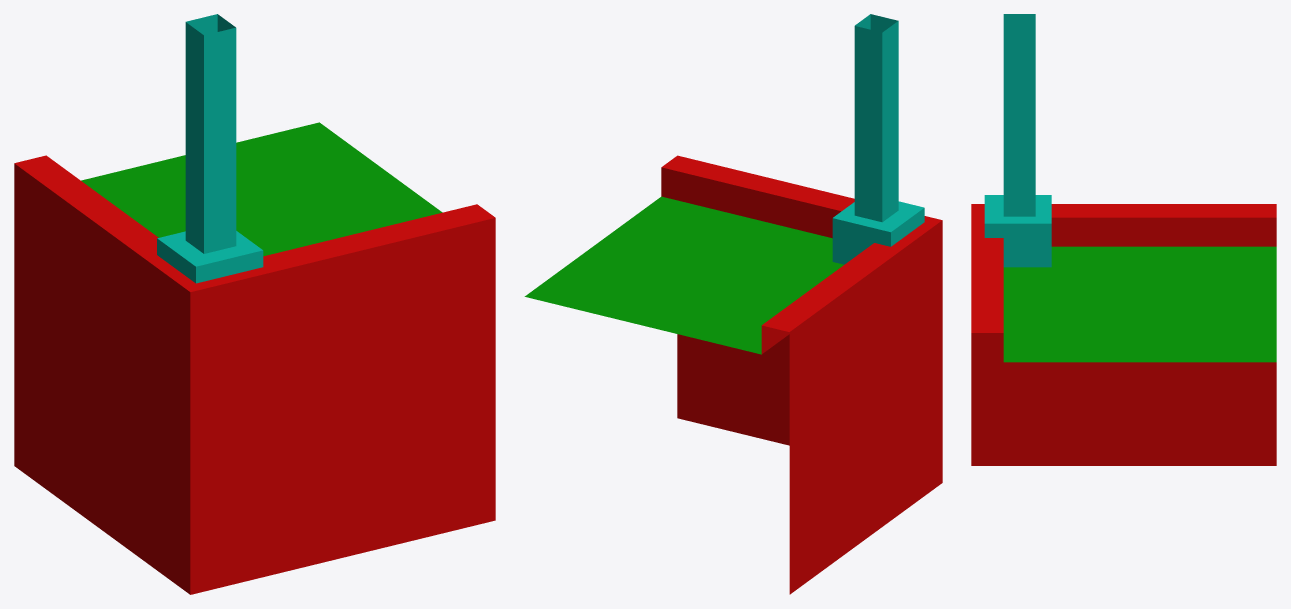
File: None_W_E_E_E_E_E_E_E_BigStrut.fbx
3 views of the same model, side by side, from view 1: azimuth 30°, elevation 25°; view 2: azimuth 150°, elevation 25°; view 3: azimuth 270°, elevation 25° (orthographic). The views are drawn at different scales.
Parts seen in each view (by area): view 1: None_W_E_E_E_E_E_E_E_BigStrut; view 2: None_W_E_E_E_E_E_E_E_BigStrut; view 3: None_W_E_E_E_E_E_E_E_BigStrut.
Boxes of the visible parts, x1,y1,x2,y2 form: None_W_E_E_E_E_E_E_E_BigStrut: [14, 14, 495, 594]; None_W_E_E_E_E_E_E_E_BigStrut: [524, 14, 942, 594]; None_W_E_E_E_E_E_E_E_BigStrut: [971, 14, 1276, 465].
Size of the model in its own units: 59.38 by 100 by 59.38.
